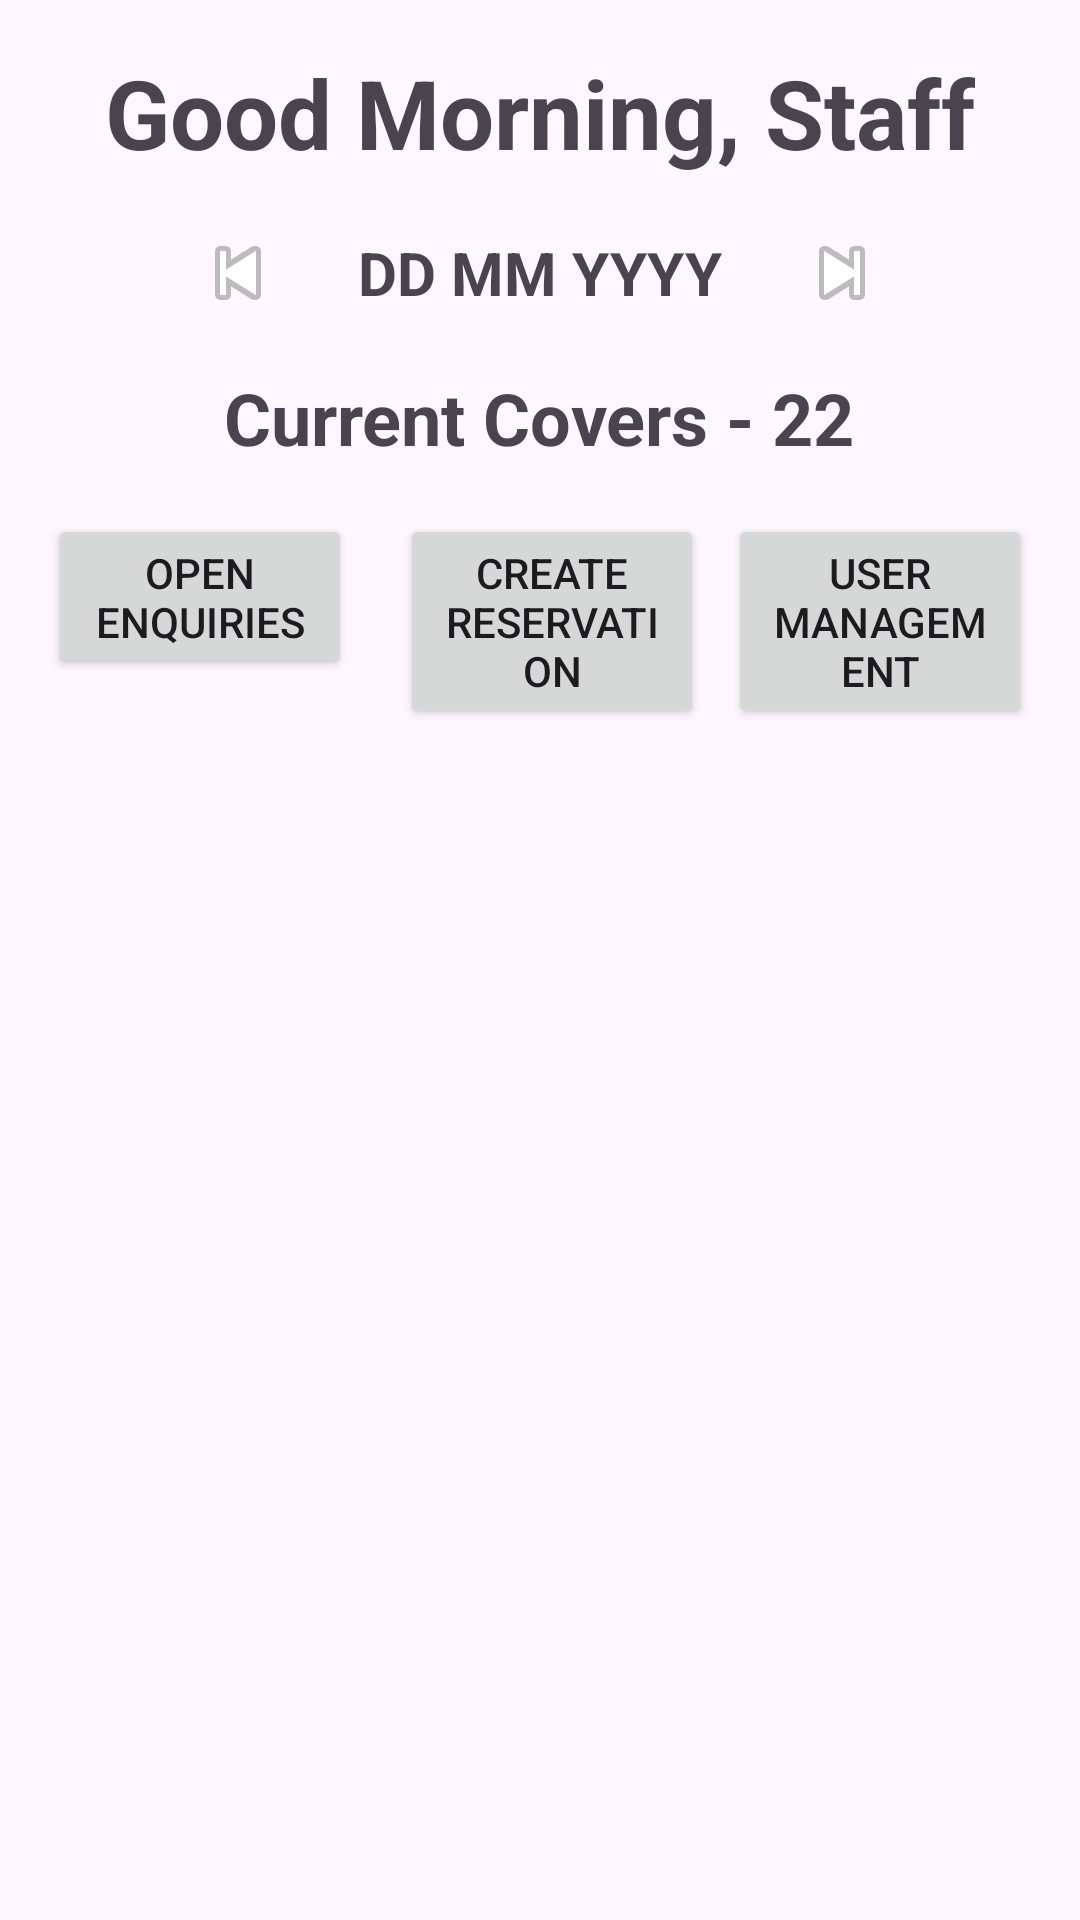

Icon bounding boxes for this 1080 × 1920 phone screenshot, format (x1, y1, x2, y2):
Next Day: (819, 246, 865, 300)
Previous Day: (215, 246, 261, 300)
